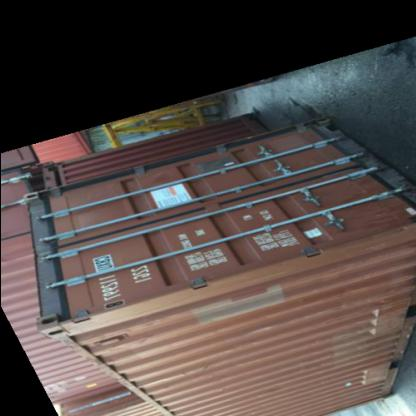Damage: (358, 299, 390, 345), (343, 365, 367, 394)
